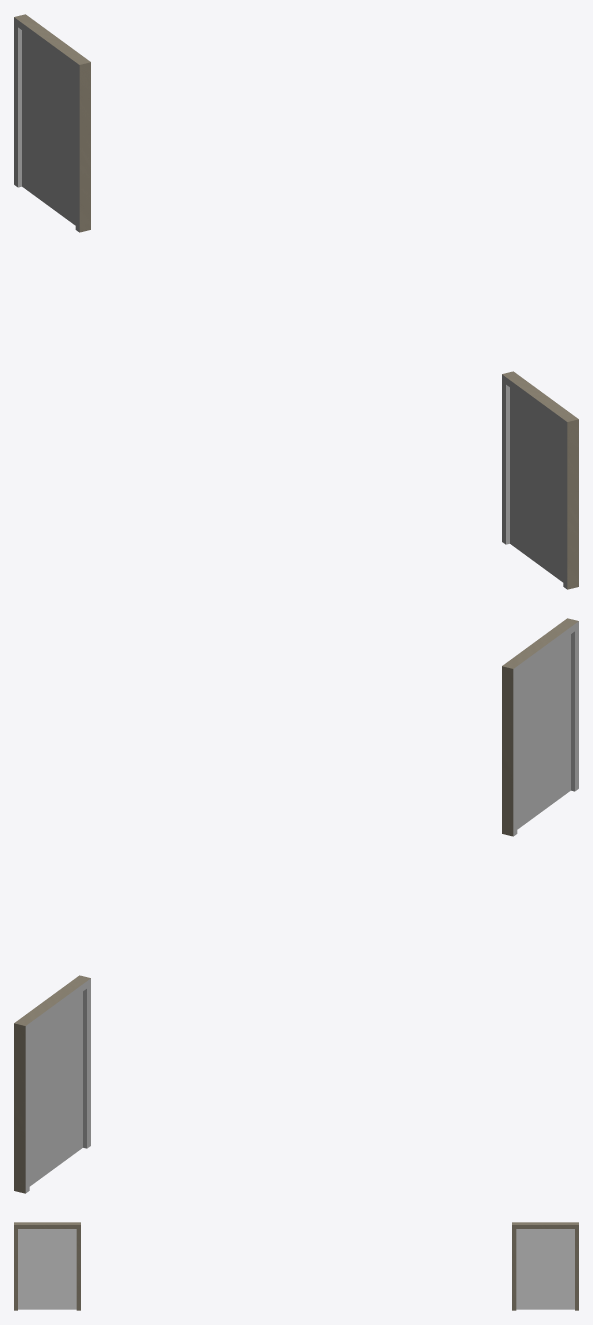
File: BalconyDoor_Mesh.fbx
The picture shows the model from 3 angles, top to bottom: view 1: azimuth 30°, elevation 25°; view 2: azimuth 150°, elevation 25°; view 3: azimuth 270°, elevation 25°; orthographic projection. The views are drawn at different scales.
Parts seen in each view (by area): view 1: BalconyDoor1, BalconyDoor; view 2: BalconyDoor, BalconyDoor1; view 3: BalconyDoor1, BalconyDoor.
Boxes of the visible parts, <box> form: BalconyDoor1: <box>14,14,90,232</box>; BalconyDoor: <box>502,371,578,589</box>; BalconyDoor: <box>502,618,578,836</box>; BalconyDoor1: <box>14,975,90,1193</box>; BalconyDoor1: <box>512,1222,578,1310</box>; BalconyDoor: <box>14,1222,80,1310</box>.
Bounding box in the file's own units: 16.72 × 230 × 1378.
Materials: 3 (1 with a texture image).
